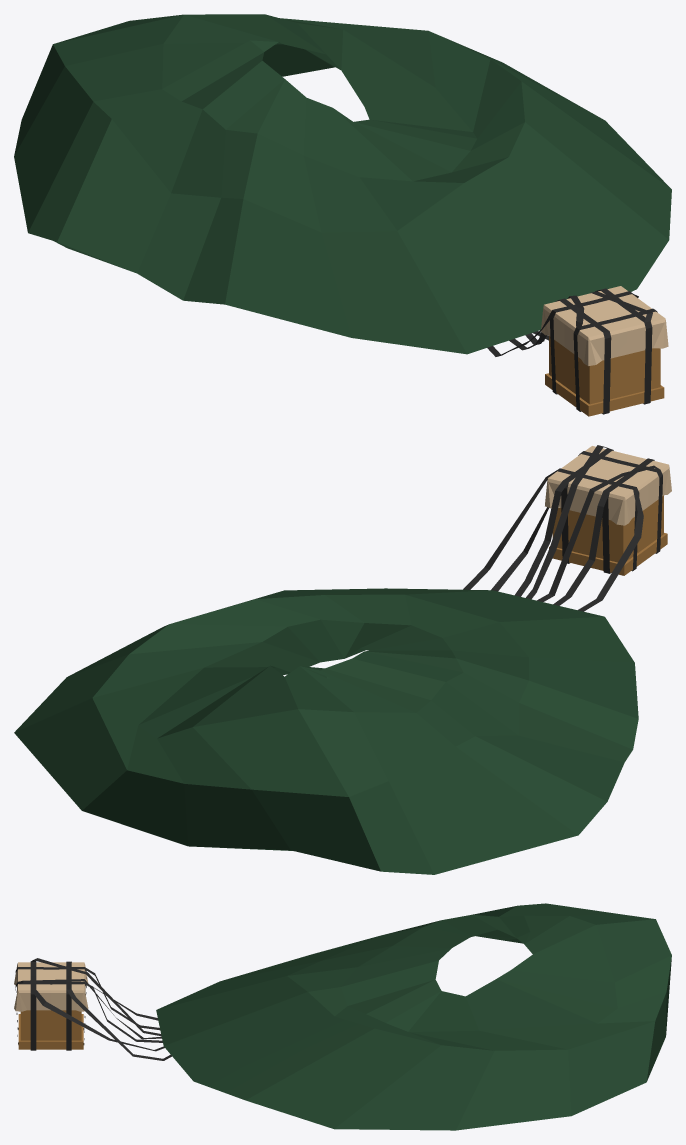
Rendered from apocalypse_crate-supply-parachute.fbx.
3 renders of one model, top to bottom at view 1: azimuth 30°, elevation 25°; view 2: azimuth 150°, elevation 25°; view 3: azimuth 270°, elevation 25°, orthographic. The views are drawn at different scales.
Visible parts, largest first — view 1: apocalypse_crate_supply_parachute; view 2: apocalypse_crate_supply_parachute; view 3: apocalypse_crate_supply_parachute.
Boxes of the visible parts, x1=… form: apocalypse_crate_supply_parachute: x1=14, y1=14, x2=671, y2=416; apocalypse_crate_supply_parachute: x1=14, y1=445, x2=671, y2=874; apocalypse_crate_supply_parachute: x1=14, y1=903, x2=671, y2=1130.
Size of the model in its own units: 143 by 31.1 by 200.
